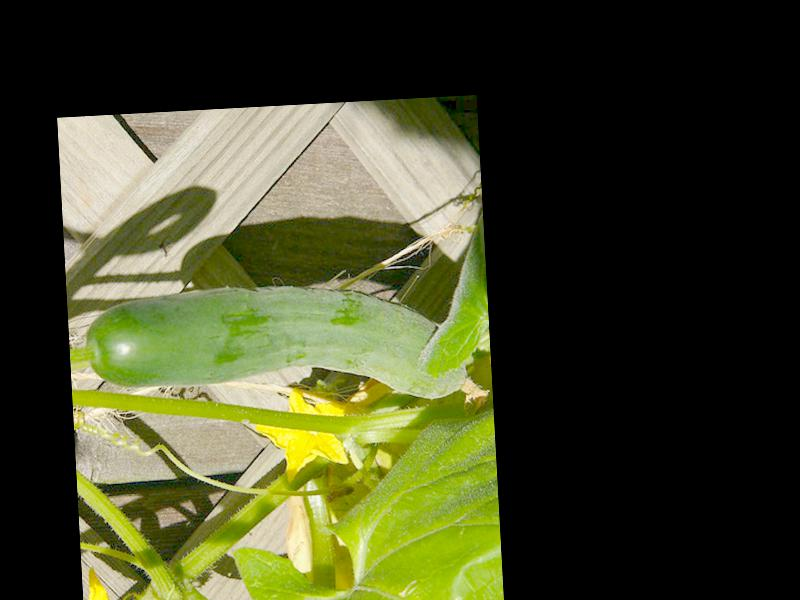Cucumber: (87, 272, 488, 417)
